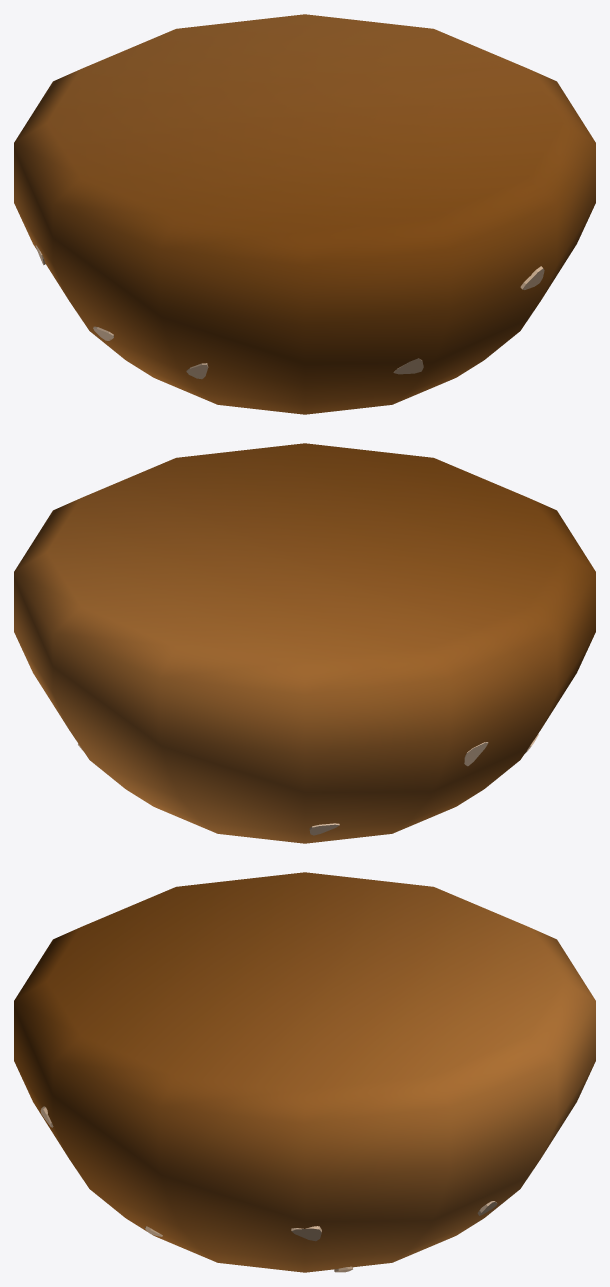
File: Burger Bread_2 Half_2.fbx
3 views of the same model, one above another, from view 1: azimuth 30°, elevation 25°; view 2: azimuth 150°, elevation 25°; view 3: azimuth 270°, elevation 25° (orthographic).
Visible parts, largest first — view 1: Burger Bread_2 Half_2; view 2: Burger Bread_2 Half_2; view 3: Burger Bread_2 Half_2.
Boxes of the visible parts, left/top/right/bottom form: Burger Bread_2 Half_2: left=14, top=14, right=595, bottom=414; Burger Bread_2 Half_2: left=14, top=443, right=595, bottom=843; Burger Bread_2 Half_2: left=14, top=872, right=595, bottom=1272.
Bounding box in the file's own units: 0.12 × 0.0546 × 0.12.
1 material, 1 textured.
